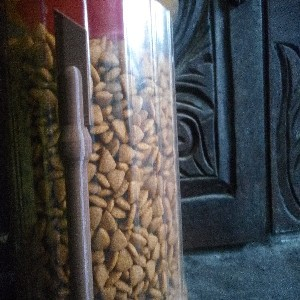cutter: (50, 4, 95, 300)
